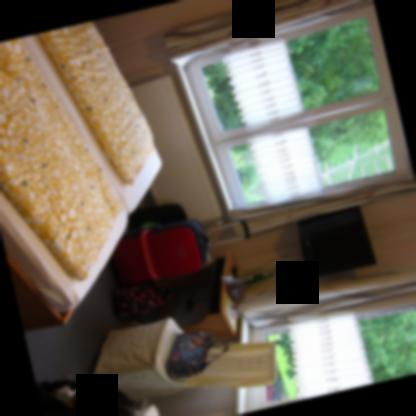backpack: (112, 280, 171, 321), (126, 203, 187, 231)
handbag: (162, 331, 226, 383)
suitcase: (110, 218, 249, 285), (42, 403, 136, 416)
